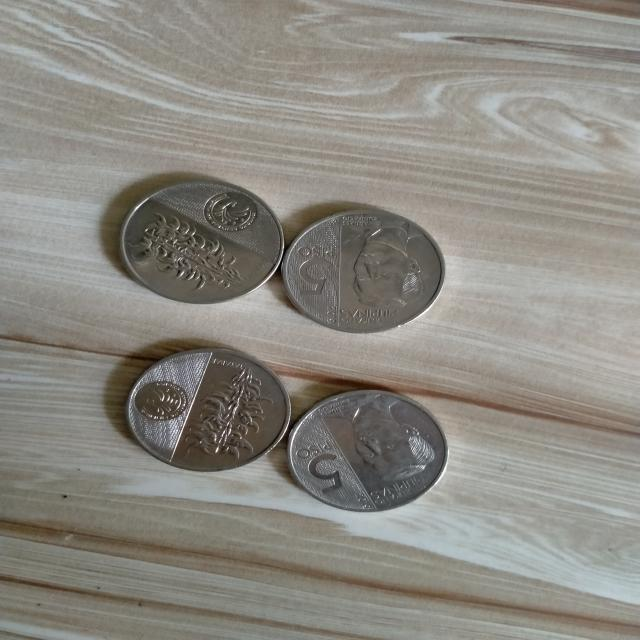5_New_Back: (118, 213, 252, 296), (188, 364, 274, 465)
5_New_Front: (289, 430, 350, 500), (279, 236, 336, 306)
